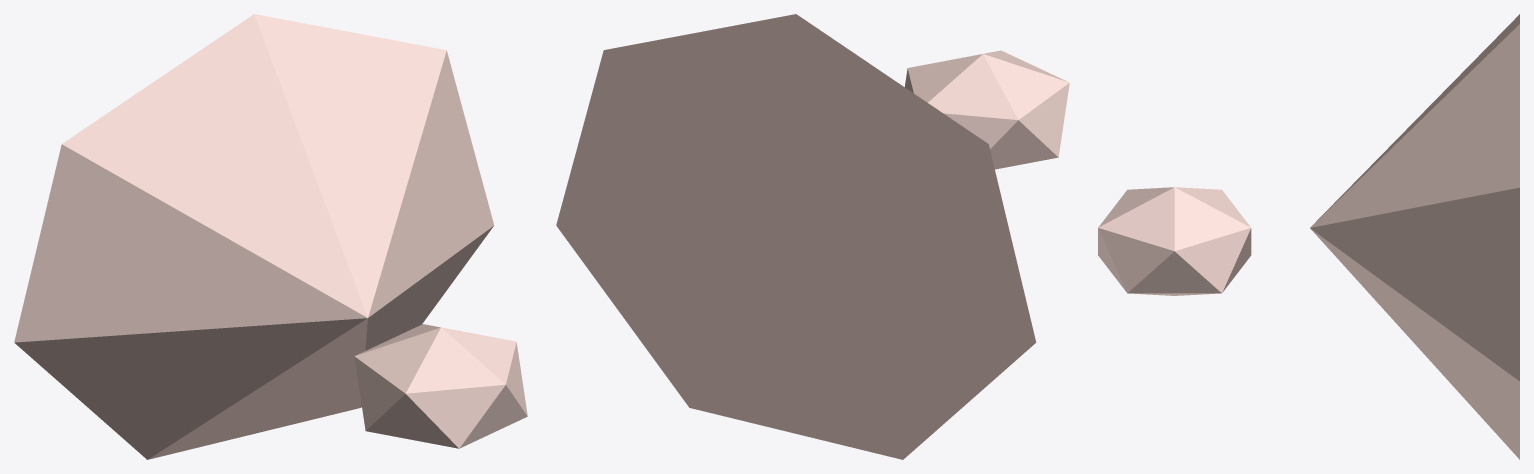
Rendered from Shell.fbx.
3 renders of one model, left to right at view 1: azimuth 30°, elevation 25°; view 2: azimuth 150°, elevation 25°; view 3: azimuth 270°, elevation 25°, orthographic. The views are drawn at different scales.
Parts seen in each view (by area): view 1: Body; view 2: Body; view 3: Body.
Boxes of the visible parts, x1=… form: Body: x1=14, y1=14, x2=527, y2=459; Body: x1=556, y1=14, x2=1069, y2=459; Body: x1=1098, y1=14, x2=1519, y2=459.
Size of the model in its own units: 0.3412 by 0.2851 by 0.281.
